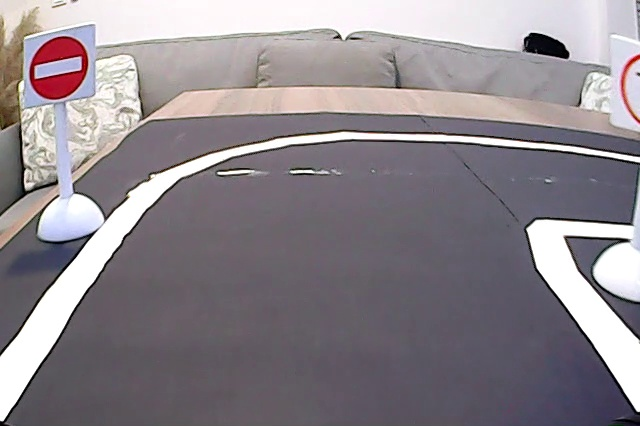do not enter: (25, 33, 89, 104)
